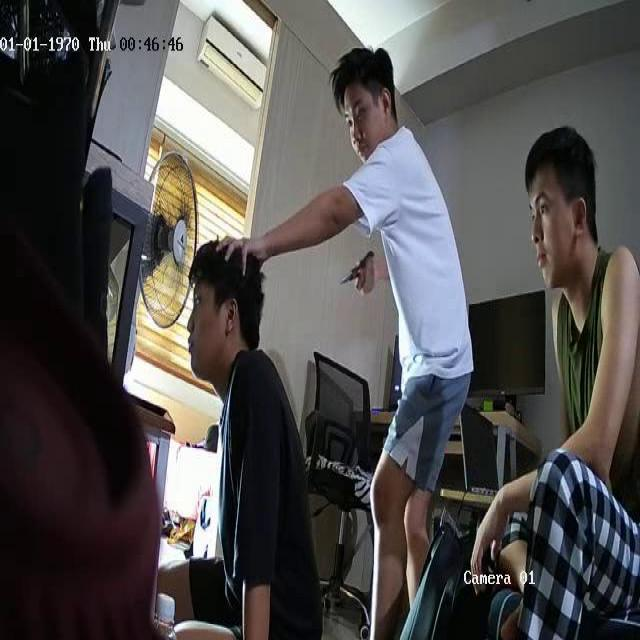scissor: (344, 252, 373, 283)
